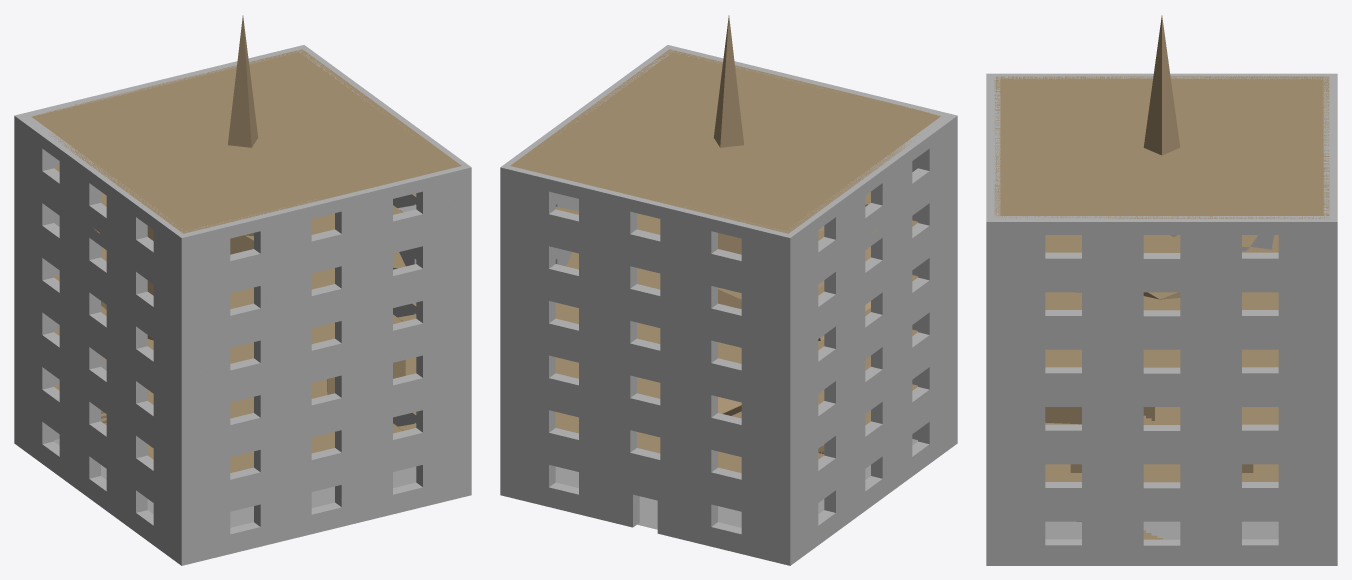
3 views of the same model, side by side, from view 1: azimuth 30°, elevation 25°; view 2: azimuth 150°, elevation 25°; view 3: azimuth 270°, elevation 25° (orthographic). The views are drawn at different scales.
Parts seen in each view (by area): view 1: Floor7, Wall43, Wall31, Wall27, Wall35, Wall39, Wall23, Wall44, Wall22, Wall40, Wall28, Wall32 (+11 smaller); view 2: Floor7, Wall45, Wall33, Wall37, Wall29, Wall41, Wall24, Wall44, Wall40, Wall28, Wall22, Wall32 (+11 smaller); view 3: Floor7, Wall42, Wall26, Wall34, Wall38, Wall30, Wall21, floor4_Floor6, Wall43, Wall45, Floor, Wall44 (+8 smaller).
Part boxes in pixels (x1,y1,x2,y2): Floor7: [31, 49, 461, 233]; Wall43: [175, 166, 471, 292]; Wall31: [175, 331, 471, 456]; Wall27: [175, 386, 471, 511]; Wall35: [175, 277, 471, 401]; Wall39: [175, 222, 471, 347]; Wall23: [175, 441, 471, 565]; Wall44: [14, 114, 193, 292]; Wall22: [14, 389, 193, 565]; Wall40: [14, 170, 193, 347]; Wall28: [14, 334, 193, 510]; Wall32: [14, 280, 190, 456]; Floor7: [510, 49, 940, 233]; Wall45: [500, 164, 796, 292]; Wall33: [500, 332, 791, 455]; Wall37: [500, 277, 791, 401]; Wall29: [500, 386, 790, 510]; Wall41: [500, 223, 792, 347]; Wall24: [500, 441, 791, 565]; Wall44: [778, 114, 957, 292]; Wall40: [778, 170, 957, 347]; Wall28: [778, 335, 957, 511]; Wall22: [778, 389, 957, 565]; Wall32: [778, 280, 957, 456]; Floor7: [994, 76, 1329, 218]; Wall42: [986, 216, 1337, 279]; Wall26: [986, 451, 1337, 508]; Wall34: [986, 336, 1337, 393]; Wall38: [986, 279, 1337, 336]; Wall30: [986, 394, 1337, 451]; Wall21: [986, 508, 1337, 565]; floor4_Floor6: [1045, 15, 1278, 367]; Wall43: [986, 73, 1000, 279]; Wall45: [1323, 74, 1337, 279]; Floor: [1045, 521, 1278, 539]; Wall44: [986, 73, 1337, 79].
Bounding box in the file's own units: 25.09 × 37.51 × 25.
